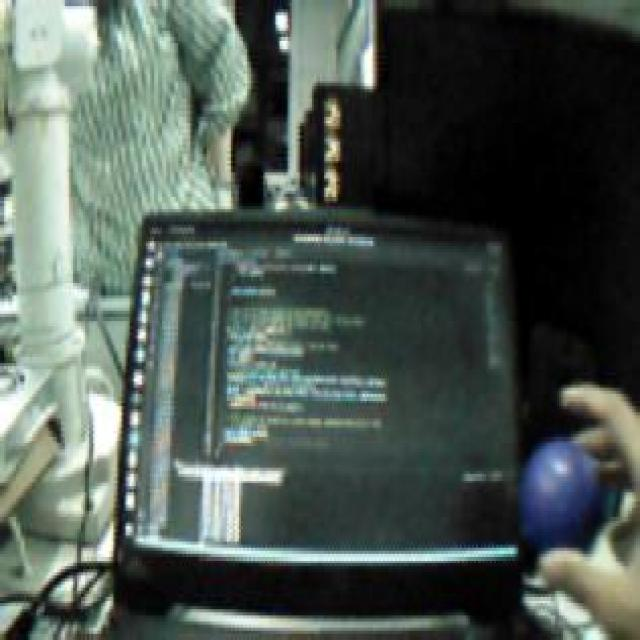BallPurple: (517, 440, 607, 560)
